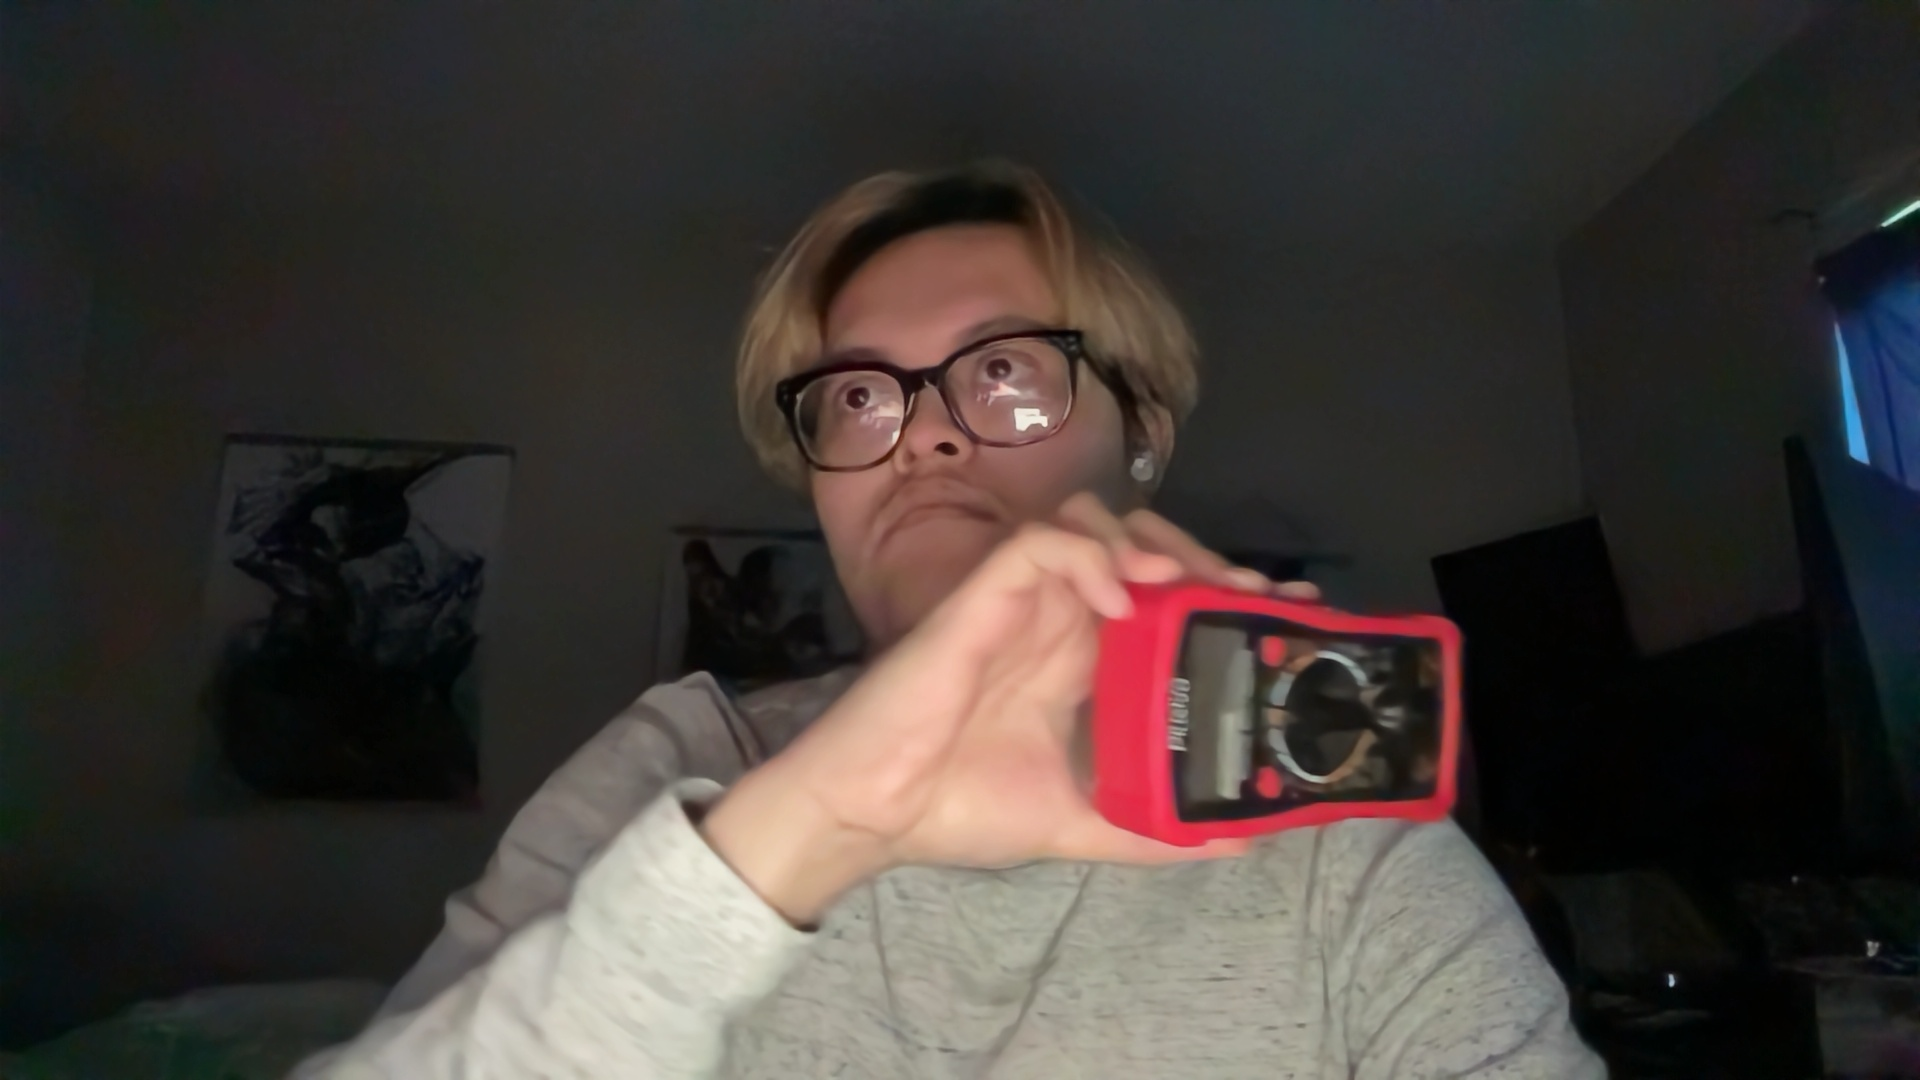multimeter: (1087, 588, 1480, 845)
